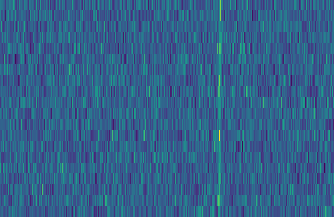signal: (215, 0, 225, 217)
